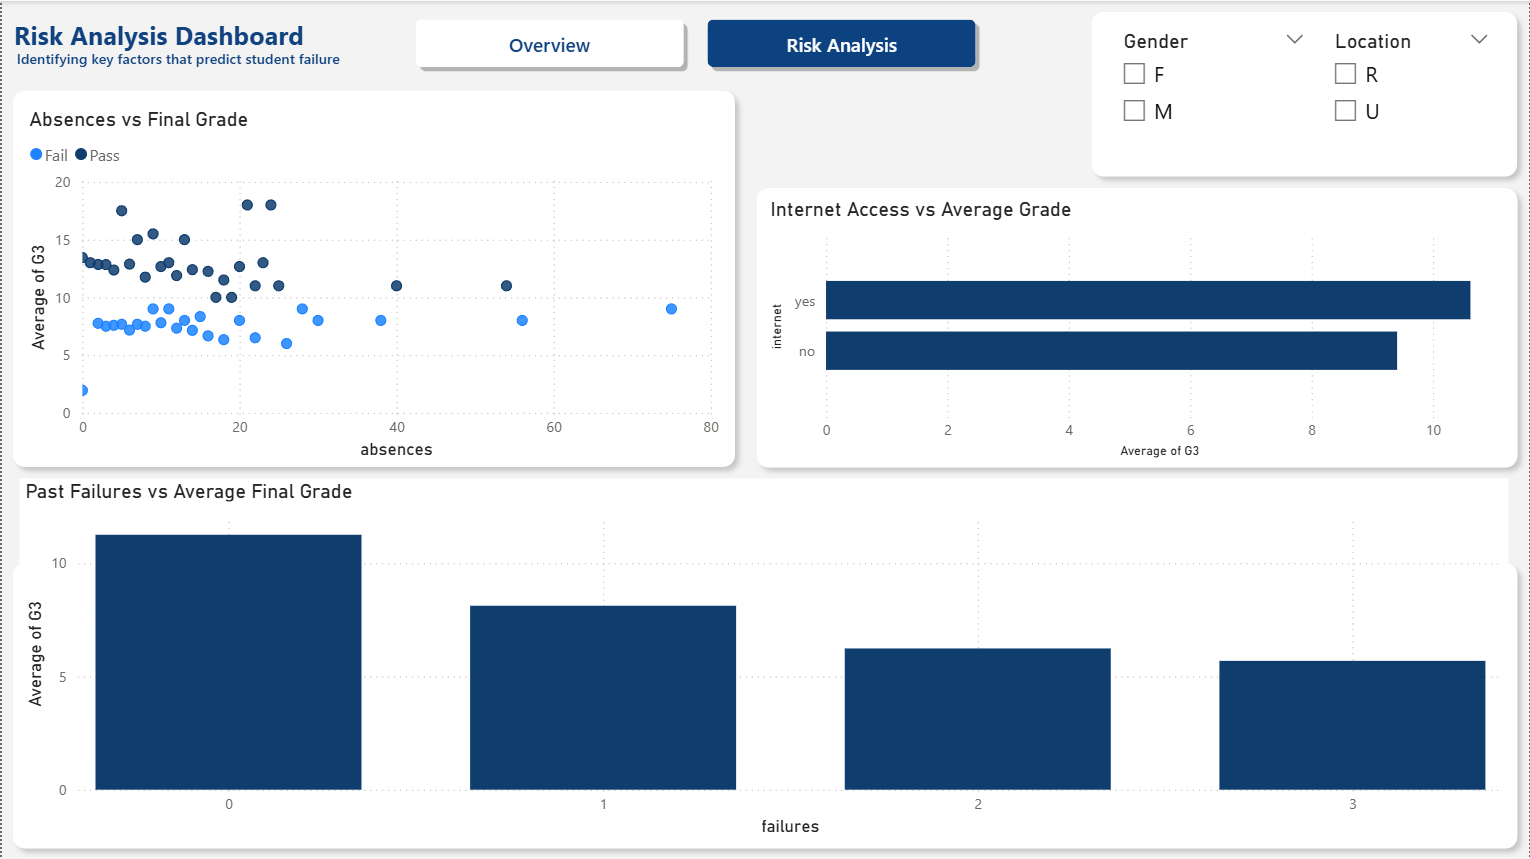

The dashboard page shown, as its layout file describes it:
{"tool":"powerbi","page":{"name":"Risk Analysis","canvas":[1280,720],"ordinal":1},"visuals":[{"type":"shape","box":[0,0,334.2,70],"z":0},{"type":"shape","box":[905,0,375,156.2],"z":2000},{"type":"shape","box":[0,66.2,623.8,333.8],"z":3000},{"type":"shape","box":[623.8,147.5,656.2,252.5],"z":5000},{"type":"shape","box":[0,462.5,1280,257.5],"z":6000},{"type":"slicer","fields":{"Values":["student_performance.sex"]},"box":[927.5,18.8,176.2,115],"z":11000},{"type":"slicer","fields":{"Values":["student_performance.address"]},"box":[1105,18.8,153.8,115],"z":12000},{"type":"pageNavigator","box":[341.2,10,481.2,50],"z":13000},{"type":"textbox","box":[7.4,33.7,397.4,32.6],"z":14000},{"type":"scatterChart","title":"Absences vs Final Grade","fields":{"X":["student_performance.absences"],"Y":["Avg(student_performance.G3)"],"Series":["student_performance.pass_fail"]},"box":[17.5,88.8,588.8,300],"z":18001},{"type":"clusteredBarChart","title":"Internet Access vs Average Grade","fields":{"Category":["student_performance.internet"],"Y":["Avg(student_performance.G3)"]},"box":[640,165,623.8,223.8],"z":18002},{"type":"clusteredColumnChart","title":"Past Failures vs Average Final Grade","fields":{"Category":["student_performance.failures"],"Y":["Avg(student_performance.G3)"]},"box":[15,400,1248.8,305],"z":18003}]}

Visuals, with their boxes in screenshot pixels (x1, y1, x2, y2), scaled from the page's 1280x720 canvas onto the 1530x859 screenshot:
shape: Rect(0, 0, 399, 84)
shape: Rect(1082, 0, 1529, 186)
shape: Rect(0, 79, 746, 477)
shape: Rect(746, 176, 1529, 477)
shape: Rect(0, 552, 1529, 858)
slicer - student_performance.sex: Rect(1109, 22, 1319, 160)
slicer - student_performance.address: Rect(1321, 22, 1505, 160)
pageNavigator: Rect(408, 12, 983, 72)
textbox: Rect(9, 40, 484, 79)
"Absences vs Final Grade" scatterChart: Rect(21, 106, 725, 464)
"Internet Access vs Average Grade" clusteredBarChart: Rect(765, 197, 1511, 464)
"Past Failures vs Average Final Grade" clusteredColumnChart: Rect(18, 477, 1511, 841)
